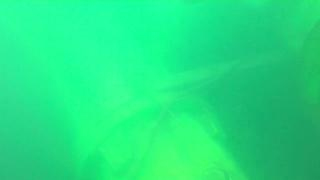pipe: (1, 1, 250, 179)
